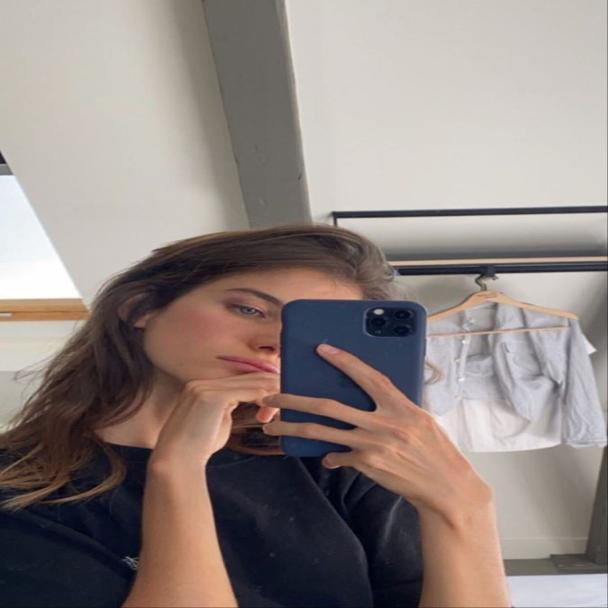Handphone: (280, 298, 424, 454)
